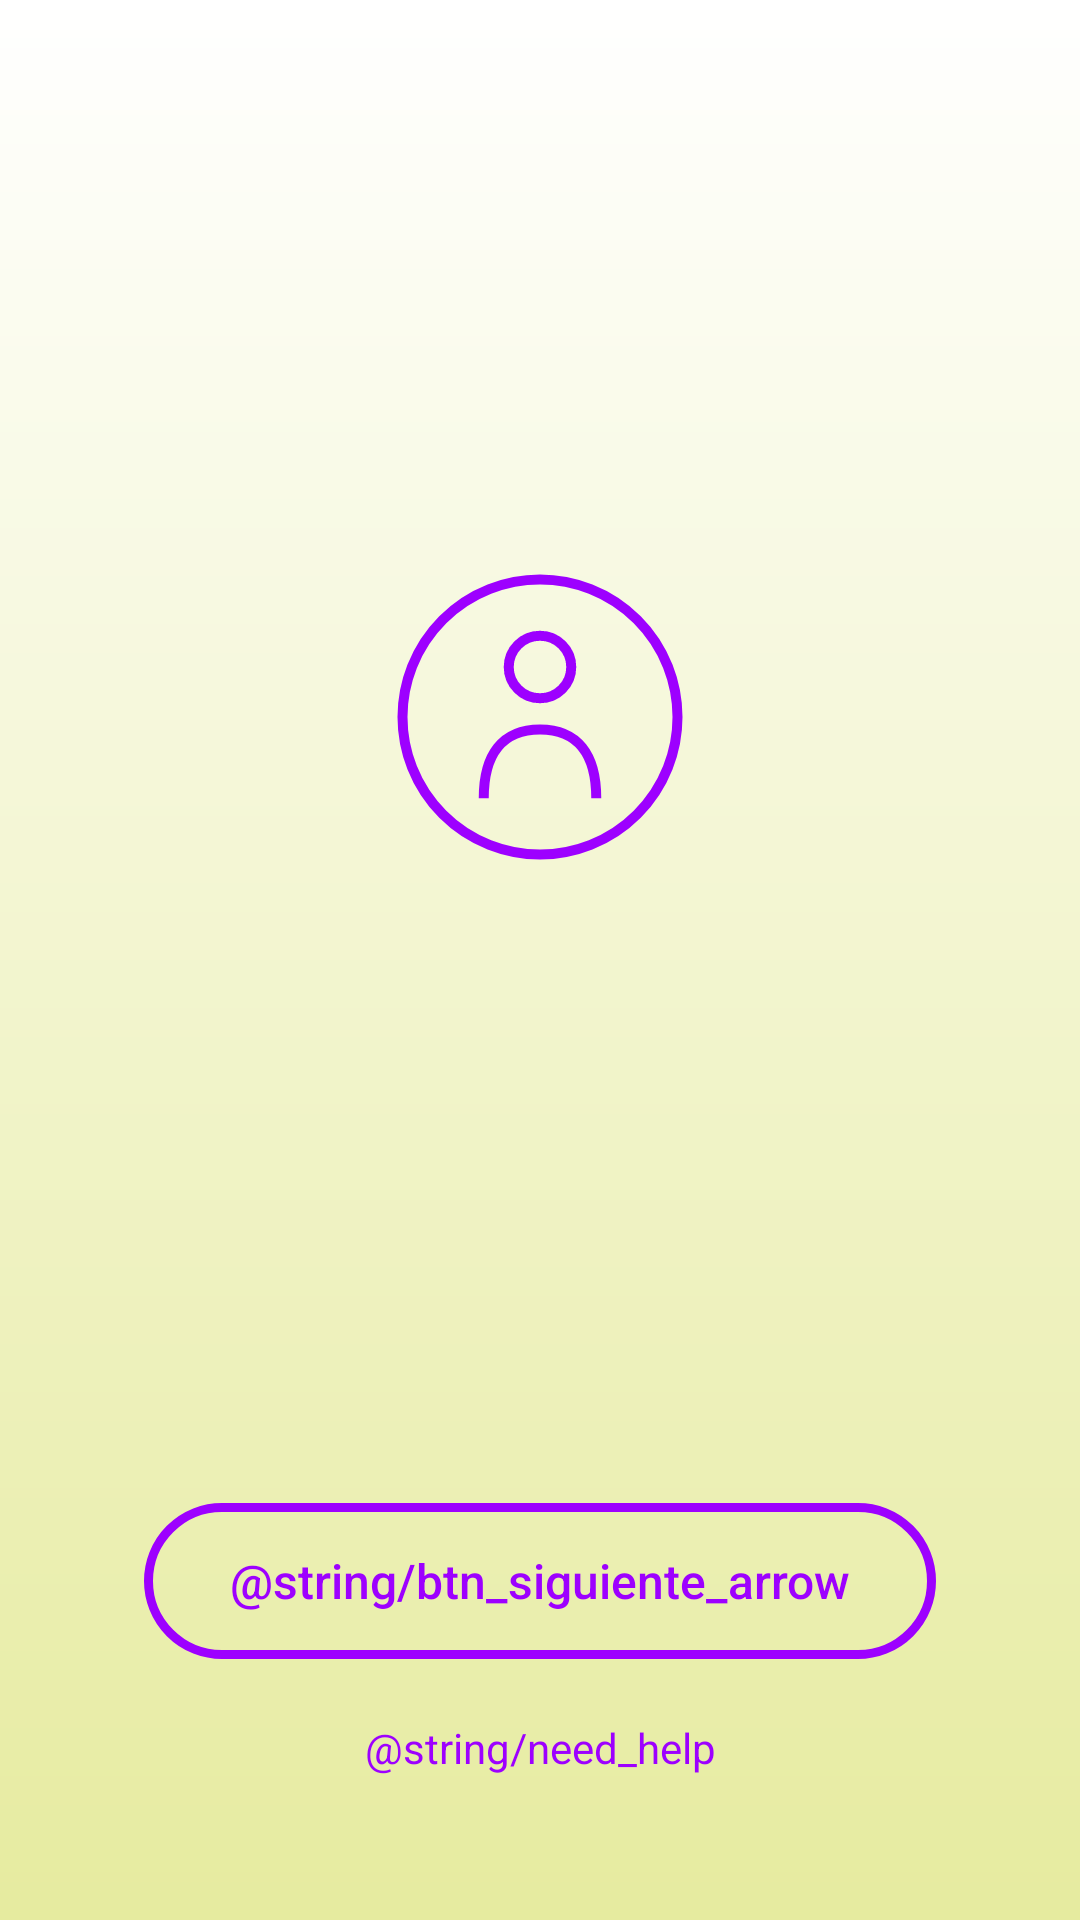

Icon bounding boxes for this 1080px×1920px phone screenshot, format (x1, y1, x2, y2):
person circle: (397, 574, 683, 860)
